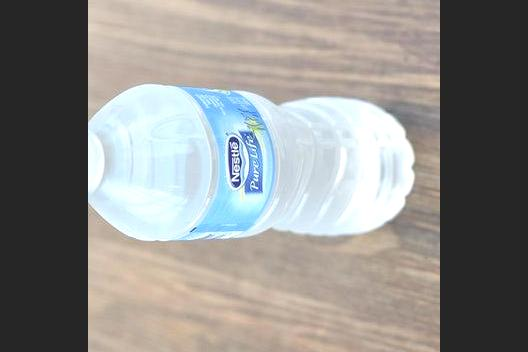bottle: (88, 80, 423, 249)
